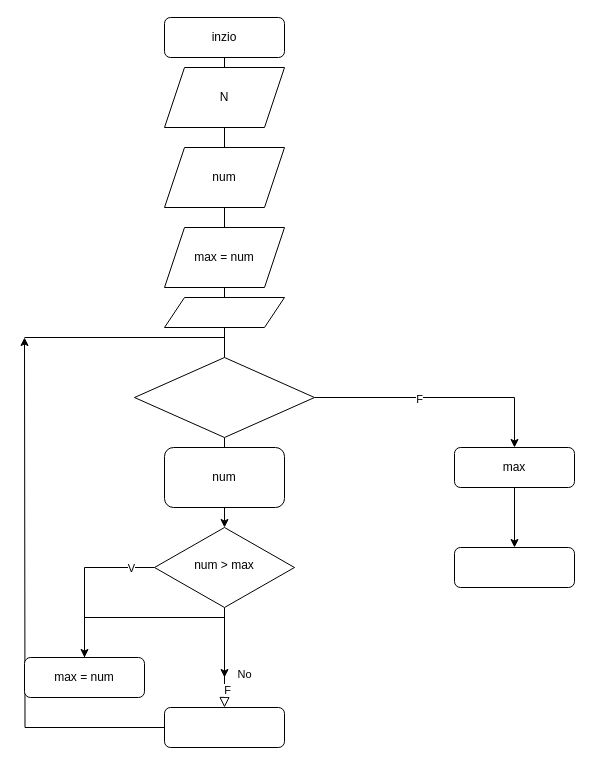
Some shapes in this 592 by 765 pixel diagram are drawn without their labels. Each missing label, with the centre of its shape:
"fine" belongs at (x=514, y=567).
"i < N" belongs at (x=224, y=397).
"i = 1" belongs at (x=224, y=312).
"i++" belongs at (x=224, y=727).
